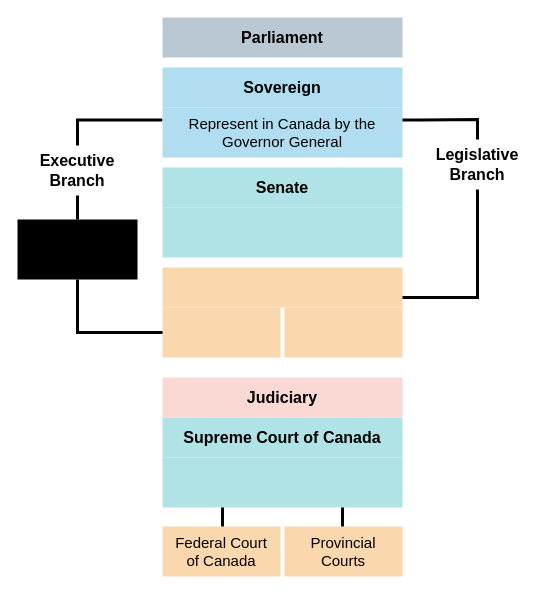
This 544x593 diagram has some shape labels left out. The centre of each missing label's shape, as x and y in pixels:
"Appointed on the Prime Minister's recommendation" belongs at (282,232).
"Government Members" belongs at (221,332).
"House of Commons Elected by voters" belongs at (282,287).
"Nine judges appointed by the Governor General" belongs at (282,482).
"Opposition Members" belongs at (343,332).
